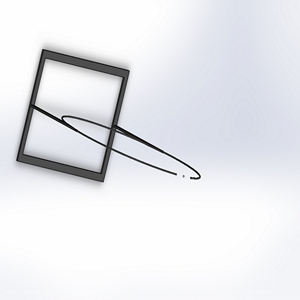circle: (13, 45, 204, 184)
